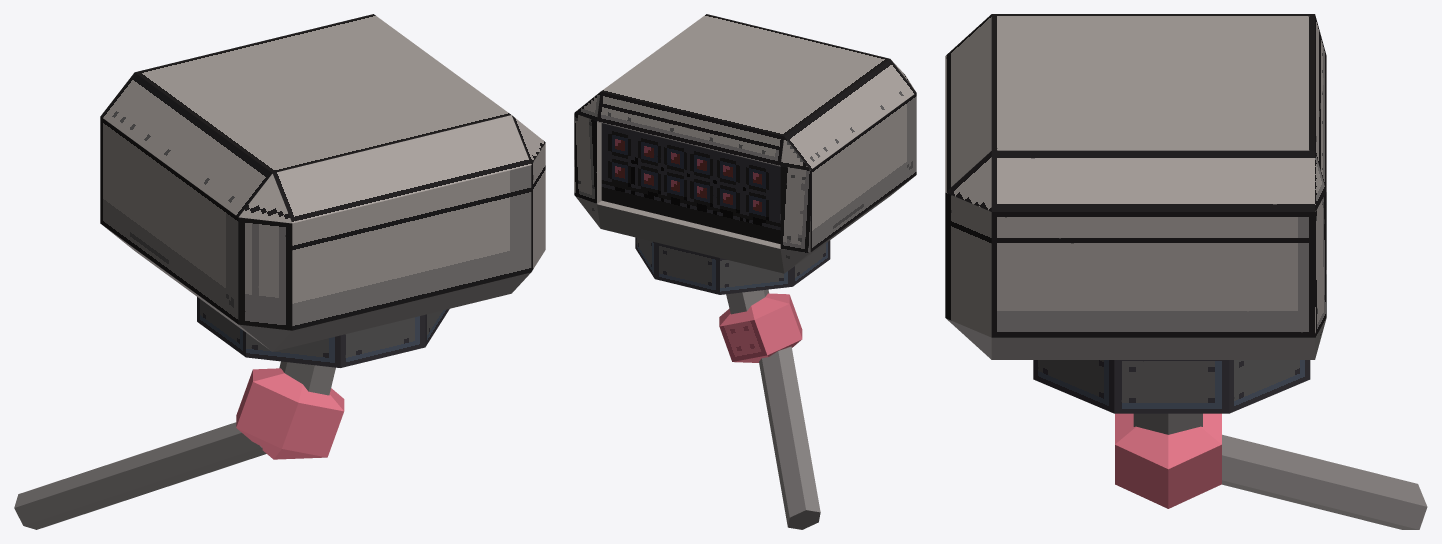
Rendered from RocketLauncherRightSide.gltf.
3 views of the same model, side by side, from view 1: azimuth 30°, elevation 25°; view 2: azimuth 150°, elevation 25°; view 3: azimuth 270°, elevation 25° (orthographic). The views are drawn at different scales.
Visible parts, largest first — view 1: RocketLauncher, UpperAttachmentArm (×2), BallJoint, Base; view 2: RocketLauncher, UpperAttachmentArm (×2), Base, BallJoint; view 3: RocketLauncher, Base, UpperAttachmentArm (×2), BallJoint.
Part boxes in pixels (left/top/right/bottom): RocketLauncher: left=100, top=14, right=545, bottom=351; UpperAttachmentArm (×2): left=14, top=361, right=335, bottom=529; BallJoint: left=236, top=368, right=344, bottom=459; Base: left=197, top=297, right=449, bottom=367; RocketLauncher: left=574, top=14, right=916, bottom=273; UpperAttachmentArm (×2): left=726, top=289, right=820, bottom=529; Base: left=635, top=237, right=830, bottom=294; BallJoint: left=719, top=293, right=802, bottom=362; RocketLauncher: left=945, top=14, right=1326, bottom=359; Base: left=1033, top=360, right=1310, bottom=413; UpperAttachmentArm (×2): left=1133, top=413, right=1427, bottom=529; BallJoint: left=1115, top=413, right=1221, bottom=508.
Size of the model in its own units: 0.6535 by 0.8221 by 0.6521.
1 material, 1 textured.
